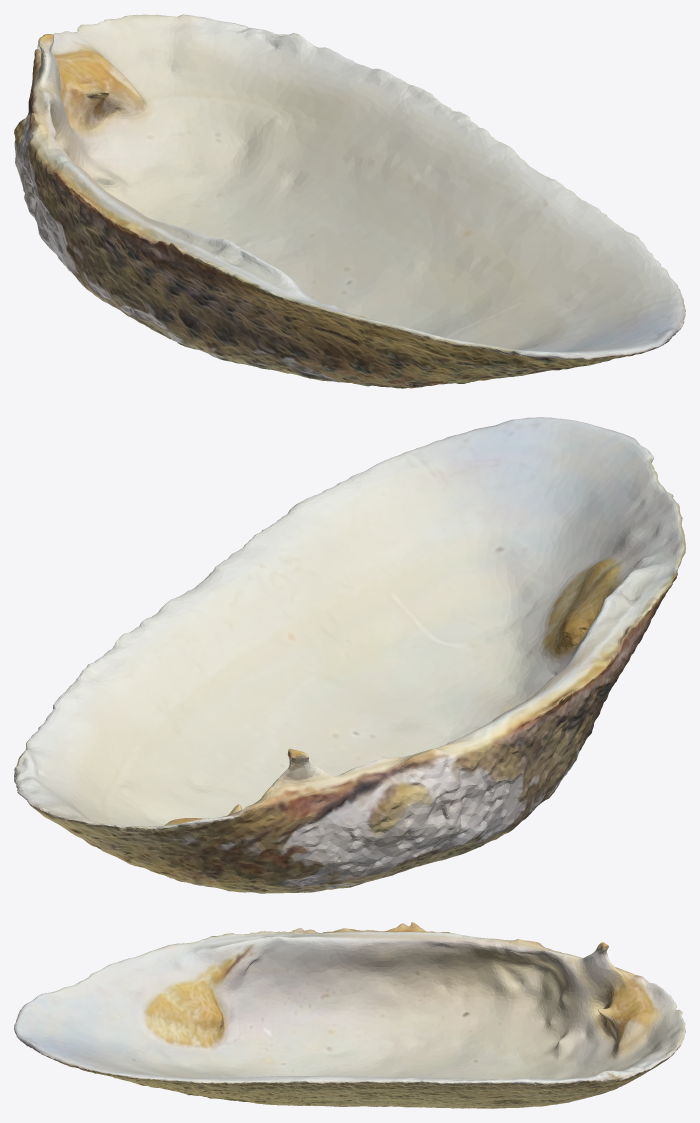
File: UF_IZ_507608_object_reduced.obj
The picture shows the model from 3 angles, top to bottom: view 1: azimuth 30°, elevation 25°; view 2: azimuth 150°, elevation 25°; view 3: azimuth 270°, elevation 25°; orthographic projection. The views are drawn at different scales.
Parts seen in each view (by area): view 1: UF_IZ_507608_object_reduced; view 2: UF_IZ_507608_object_reduced; view 3: UF_IZ_507608_object_reduced.
Part boxes in pixels (x1,y1,x2,y2): UF_IZ_507608_object_reduced: (14,14,685,388); UF_IZ_507608_object_reduced: (14,417,685,893); UF_IZ_507608_object_reduced: (14,922,685,1108).
Bounding box in the file's own units: 0.0142 × 0.00609 × 0.0292.
